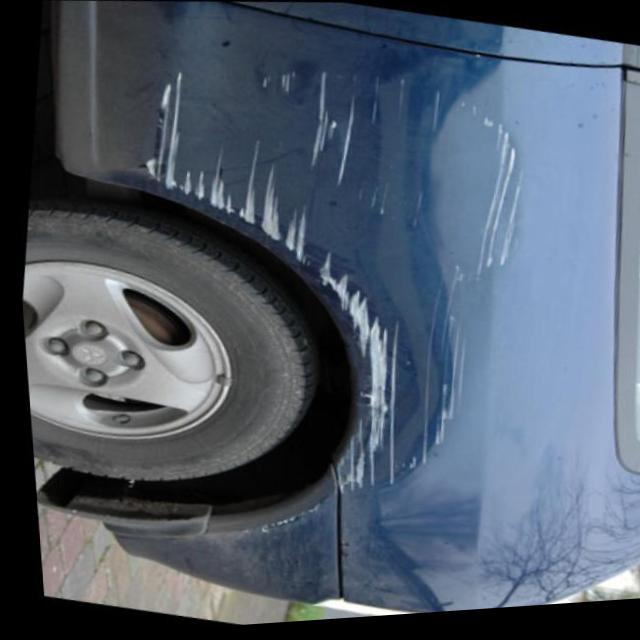Scratch: (146, 49, 524, 511)
